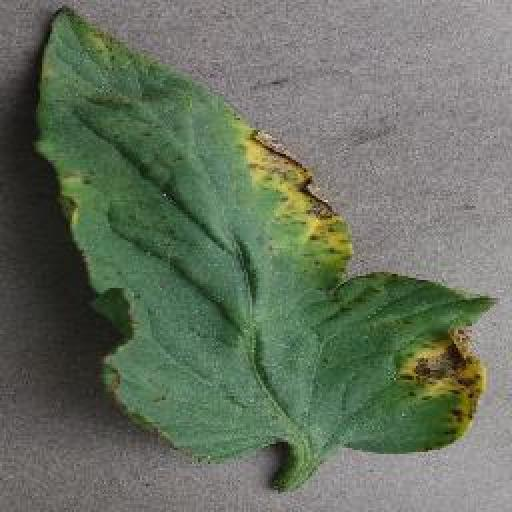Bacterial Spot: (32, 2, 500, 462)
